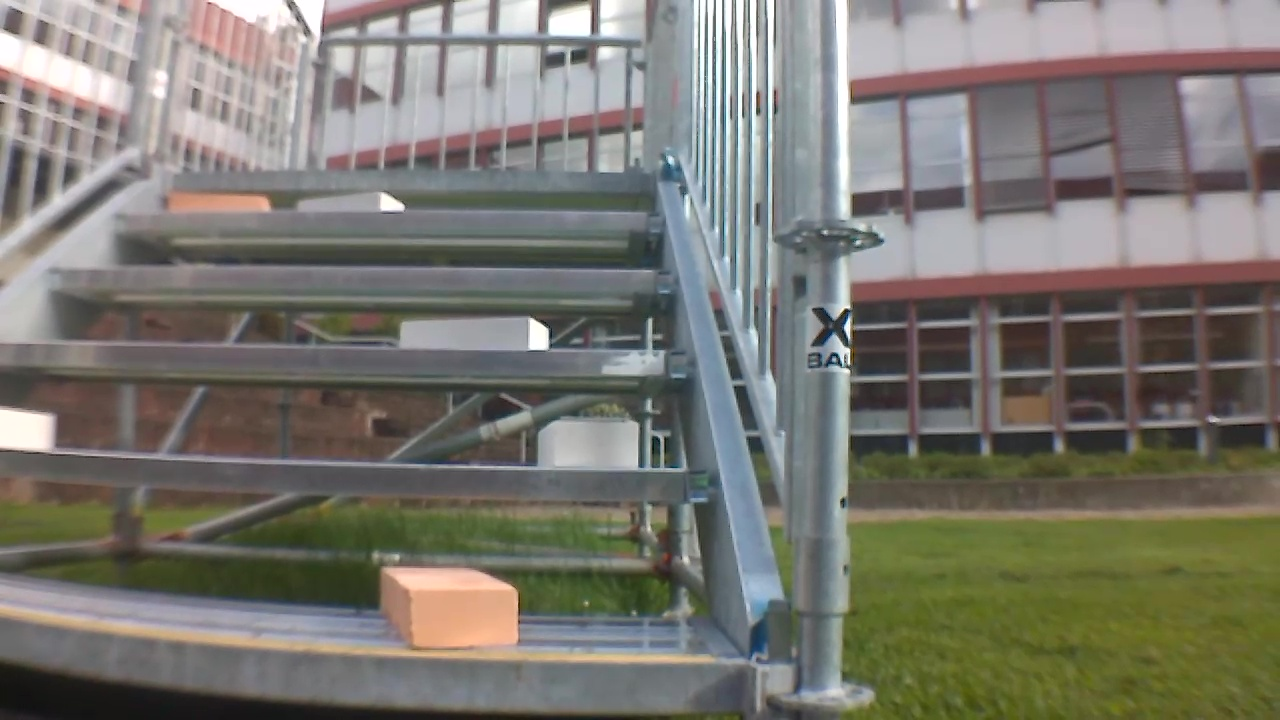brick: (381, 568, 518, 648), (401, 318, 549, 350), (537, 421, 636, 466), (1, 407, 52, 449), (169, 192, 268, 211), (299, 193, 403, 211)
edge: (3, 616, 748, 712), (0, 447, 715, 500), (3, 342, 696, 377), (46, 266, 675, 292), (113, 211, 663, 232), (168, 170, 655, 192)
stairs: (4, 3, 875, 716)
steps: (1, 163, 759, 715)
